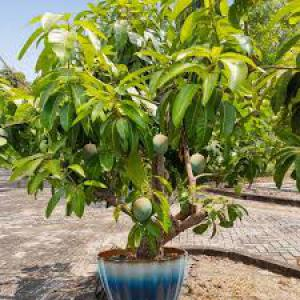Tree: (8, 0, 293, 295)
